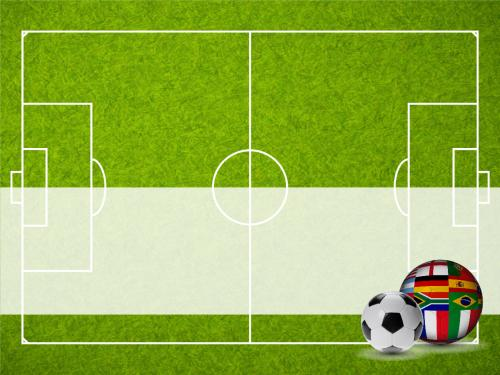football: (362, 290, 424, 357)
